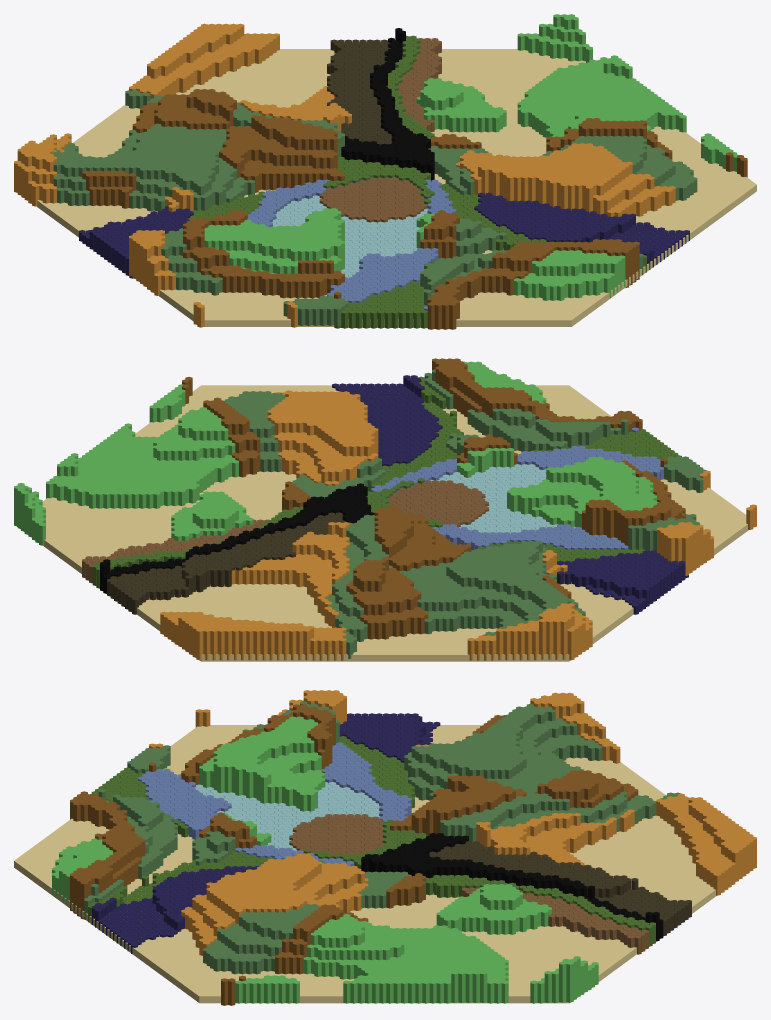
File: 0030_tile_1002120.fbx
3 renders of one model, top to bottom at view 1: azimuth 30°, elevation 25°; view 2: azimuth 150°, elevation 25°; view 3: azimuth 270°, elevation 25°, orthographic.
Parts seen in each view (by area): view 1: Plane; view 2: Plane; view 3: Plane.
Boxes of the visible parts, bbox=[...] form: Plane: bbox=[14, 14, 756, 329]; Plane: bbox=[14, 358, 756, 661]; Plane: bbox=[14, 690, 756, 1005].
Size of the model in its own units: 1008 by 79.2 by 1152.
